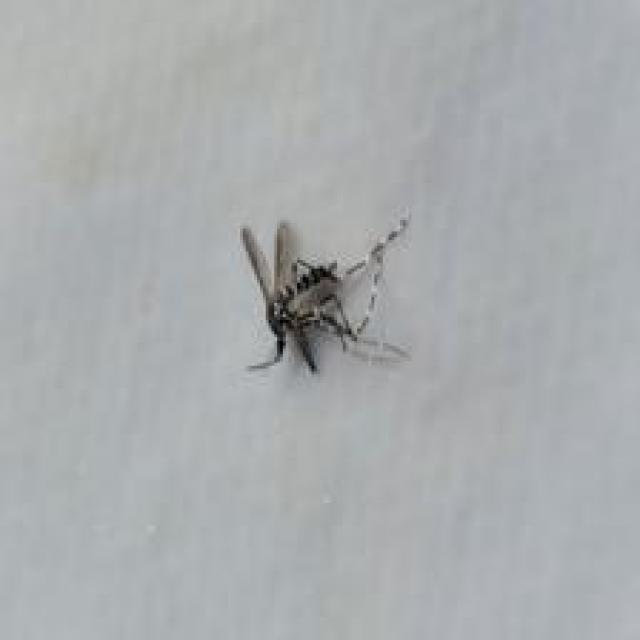Aedes albopictus: (238, 210, 413, 376)
